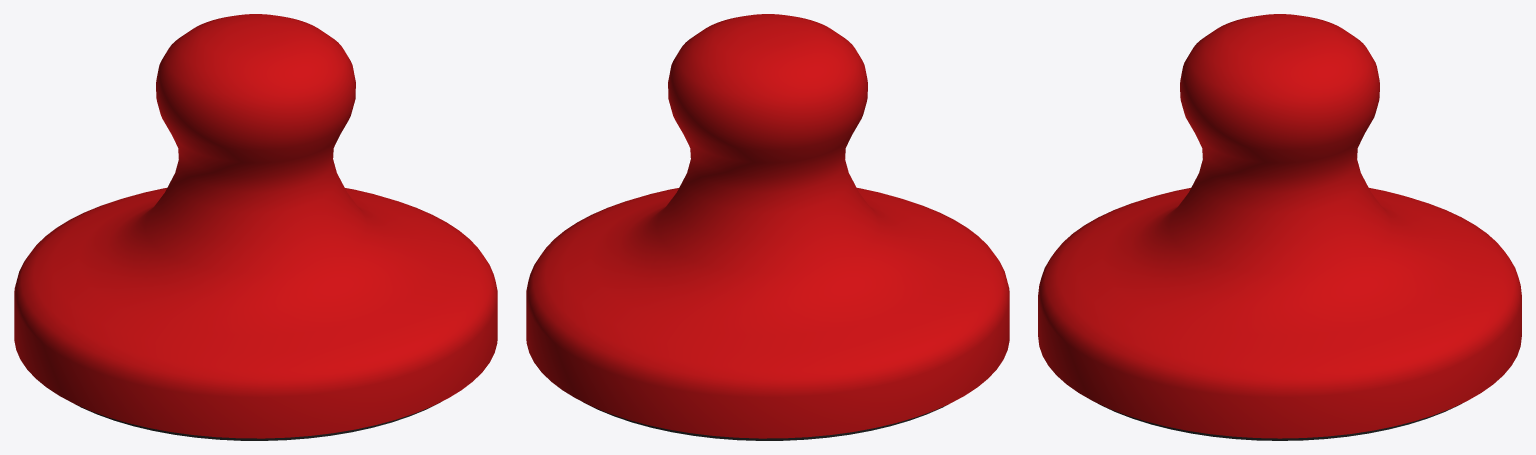
The model's file is mallet.glb.
3 renders of one model, left to right at view 1: azimuth 30°, elevation 25°; view 2: azimuth 150°, elevation 25°; view 3: azimuth 270°, elevation 25°, orthographic.
Visible parts, largest first — view 1: mallet, mallet-felt; view 2: mallet, mallet-felt; view 3: mallet, mallet-felt.
Boxes of the visible parts, bbox=[...] form: mallet: bbox=[14, 14, 497, 438]; mallet-felt: bbox=[76, 402, 440, 440]; mallet: bbox=[526, 14, 1009, 438]; mallet-felt: bbox=[583, 402, 947, 440]; mallet: bbox=[1038, 14, 1521, 438]; mallet-felt: bbox=[1097, 403, 1462, 440].
Bounding box in the file's own units: 0.1016 × 0.072 × 0.1016.
